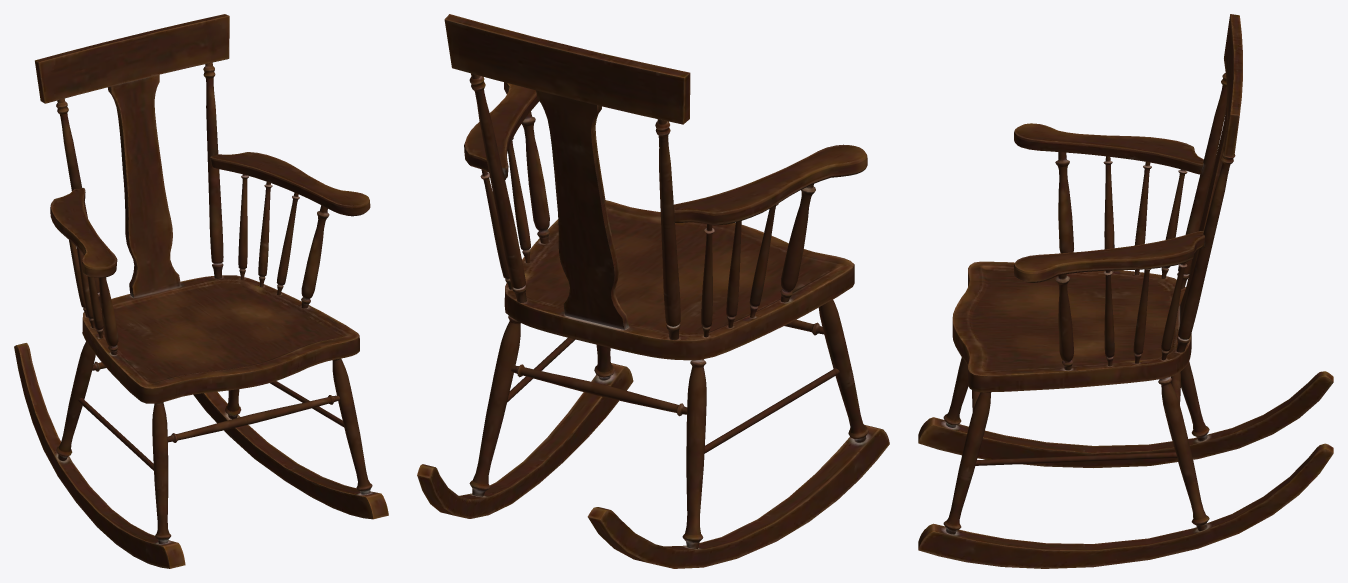
Rendered from rocking-chair.glb.
3 renders of one model, left to right at view 1: azimuth 30°, elevation 25°; view 2: azimuth 150°, elevation 25°; view 3: azimuth 270°, elevation 25°, orthographic. The views are drawn at different scales.
Visible parts, largest first — view 1: Rockingchair_01; view 2: Rockingchair_01; view 3: Rockingchair_01.
Boxes of the visible parts, left/top/right/bottom form: Rockingchair_01: left=14, top=14, right=388, bottom=568; Rockingchair_01: left=417, top=14, right=889, bottom=568; Rockingchair_01: left=918, top=14, right=1333, bottom=568.
Bounding box in the file's own units: 0.7081 × 0.9949 × 0.8335.
Materials: 1 (1 with a texture image).
